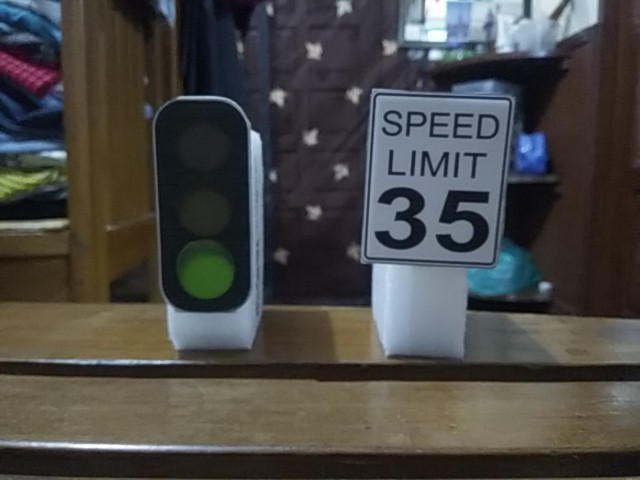Green Traffic Light: (152, 96, 254, 314)
Speed Limit 35: (361, 91, 515, 265)
